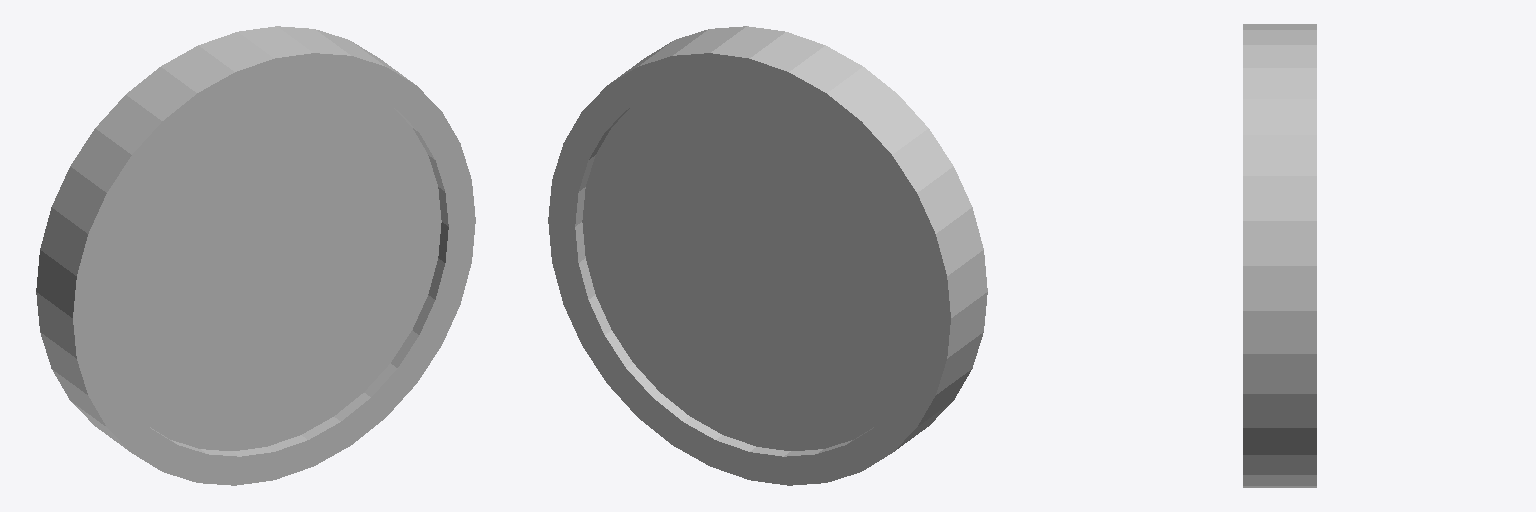
The model's file is coin.obj.
3 views of the same model, side by side, from view 1: azimuth 30°, elevation 25°; view 2: azimuth 150°, elevation 25°; view 3: azimuth 270°, elevation 25° (orthographic).
Parts seen in each view (by area): view 1: Cylinder; view 2: Cylinder; view 3: Cylinder.
Boxes of the visible parts, box(x1,y1,x2,y2) form: Cylinder: box(36, 26, 475, 485); Cylinder: box(548, 26, 987, 485); Cylinder: box(1243, 24, 1316, 487).
Size of the model in its own units: 1.09 by 1.09 by 0.1721.